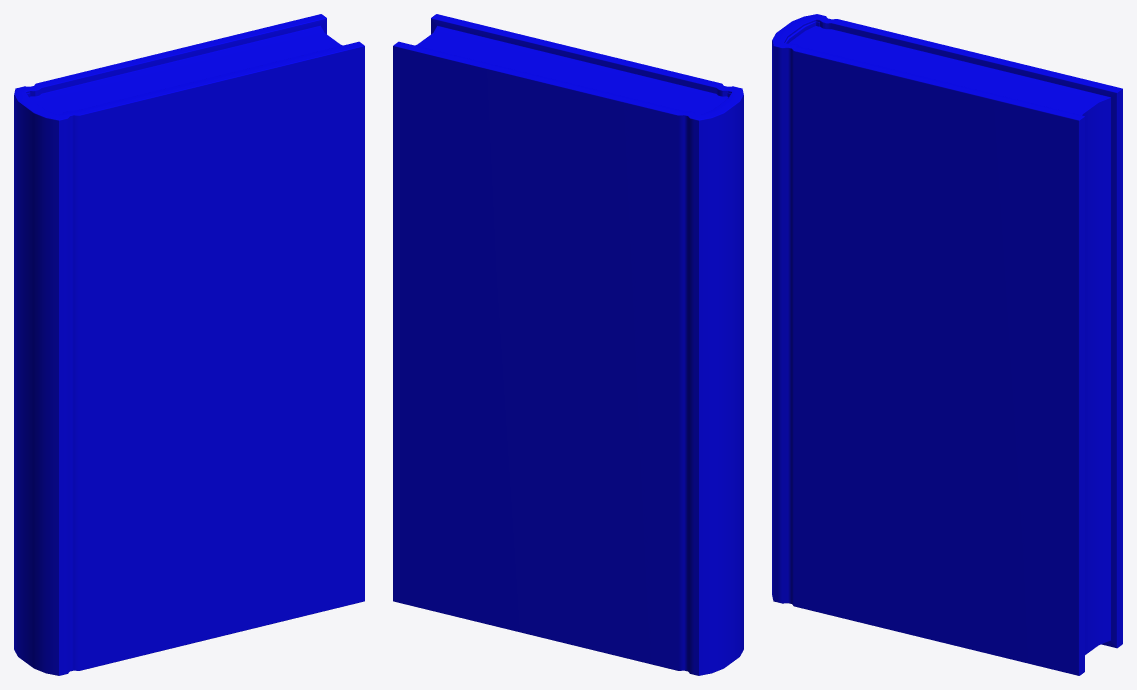
The model's file is book_lowpoly.fbx.
The picture shows the model from 3 angles, left to right: view 1: azimuth 30°, elevation 25°; view 2: azimuth 150°, elevation 25°; view 3: azimuth 330°, elevation 25°; orthographic projection.
Parts seen in each view (by area): view 1: book_lowpoly; view 2: book_lowpoly; view 3: book_lowpoly.
Boxes of the visible parts, left/top/right/bottom form: book_lowpoly: left=14, top=14, right=364, bottom=675; book_lowpoly: left=393, top=14, right=743, bottom=675; book_lowpoly: left=772, top=14, right=1122, bottom=675.
Size of the model in its own units: 3.29 by 5.51 by 0.7871.
